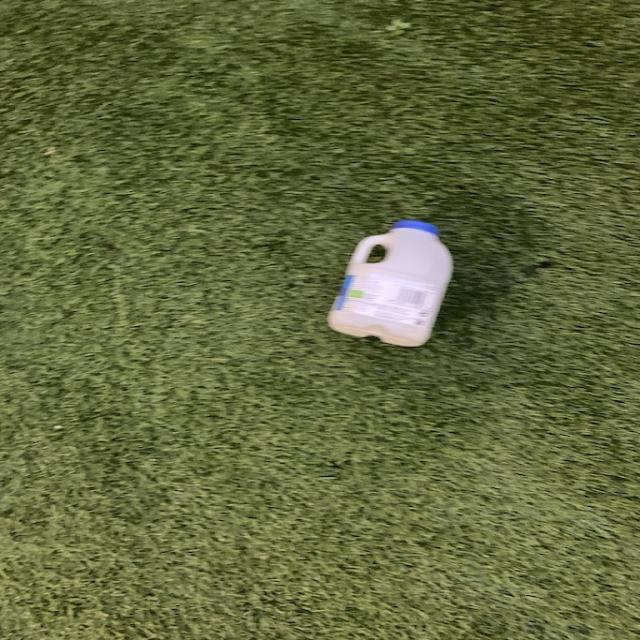litter: (324, 216, 458, 348)
